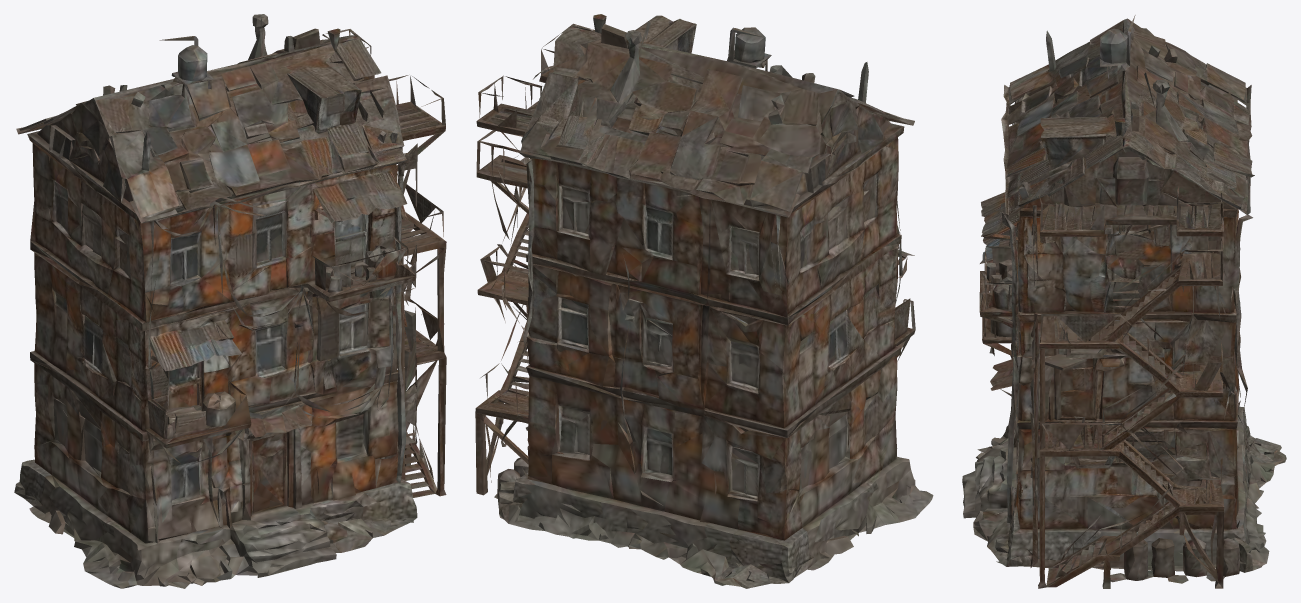
The model's file is worlportblock.glb.
The picture shows the model from 3 angles, left to right: view 1: azimuth 30°, elevation 25°; view 2: azimuth 150°, elevation 25°; view 3: azimuth 270°, elevation 25°; orthographic projection. The views are drawn at different scales.
Parts seen in each view (by area): view 1: worlportblock-centred; view 2: worlportblock-centred; view 3: worlportblock-centred.
Part boxes in pixels (x1,y1,x2,y2): worlportblock-centred: (14,14,446,588); worlportblock-centred: (475,14,933,588); worlportblock-centred: (962,15,1286,588).
Bounding box in the file's own units: 12.33 × 16 × 10.19.
Materials: 1 (1 with a texture image).
